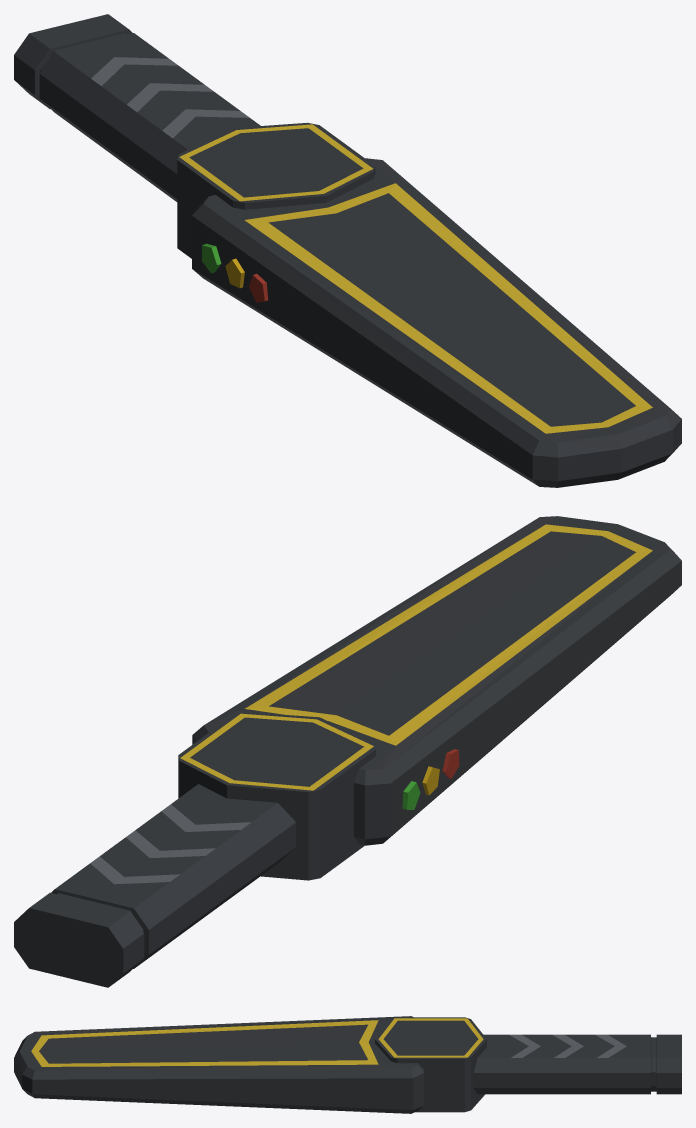
Rendered from SM_Prop_Scanner_01.fbx.
3 views of the same model, one above another, from view 1: azimuth 30°, elevation 25°; view 2: azimuth 150°, elevation 25°; view 3: azimuth 270°, elevation 25° (orthographic). The views are drawn at different scales.
Visible parts, largest first — view 1: SM_Prop_Scanner_01; view 2: SM_Prop_Scanner_01; view 3: SM_Prop_Scanner_01.
Boxes of the visible parts, x1,y1,x2,y2 form: SM_Prop_Scanner_01: [14, 14, 681, 487]; SM_Prop_Scanner_01: [14, 516, 681, 987]; SM_Prop_Scanner_01: [14, 1016, 681, 1113].
Bounding box in the file's own units: 14.94 × 6.24 × 70.86.
